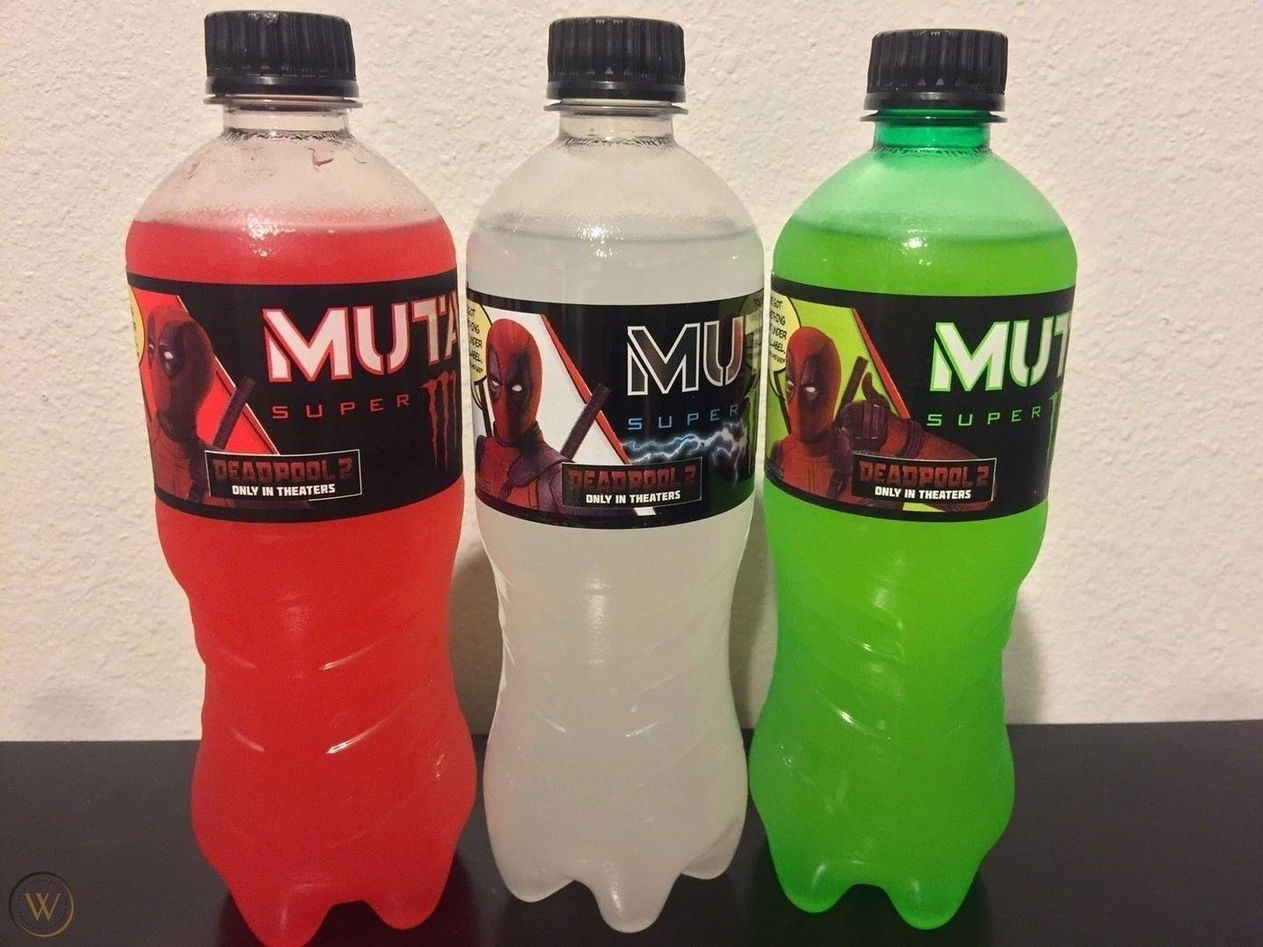bottle-plastic: (122, 6, 475, 944), (746, 21, 1081, 929), (460, 13, 770, 936)
